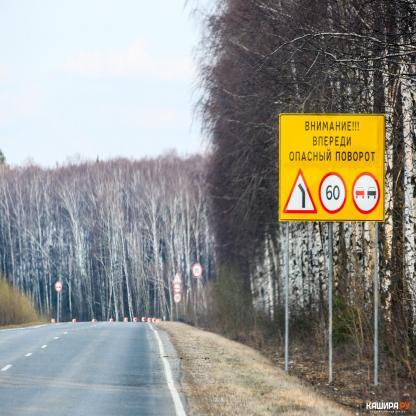road_sign: (285, 170, 316, 213), (319, 173, 346, 213), (353, 173, 379, 213), (192, 262, 203, 280), (173, 292, 182, 304)
